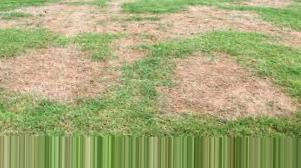patch: (180, 59, 256, 109), (17, 62, 81, 97), (201, 12, 271, 29), (67, 12, 118, 33), (152, 16, 190, 29), (40, 8, 63, 28), (264, 90, 284, 113), (119, 45, 140, 65), (158, 83, 181, 101), (52, 47, 74, 59), (90, 65, 102, 82), (27, 52, 50, 60), (2, 64, 14, 79)
